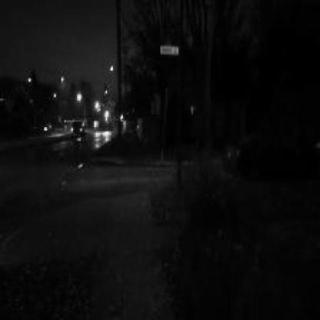other: (56, 82, 83, 106)
